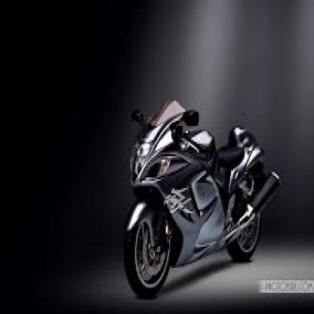Motocicleta: (121, 100, 266, 298)
